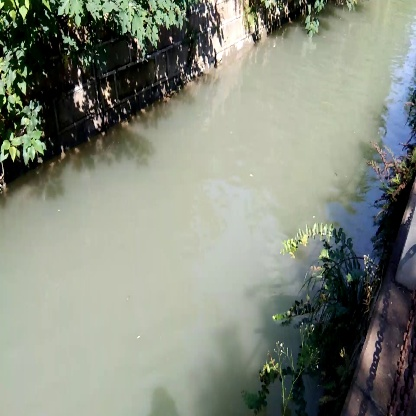grass: (280, 223, 361, 334)
